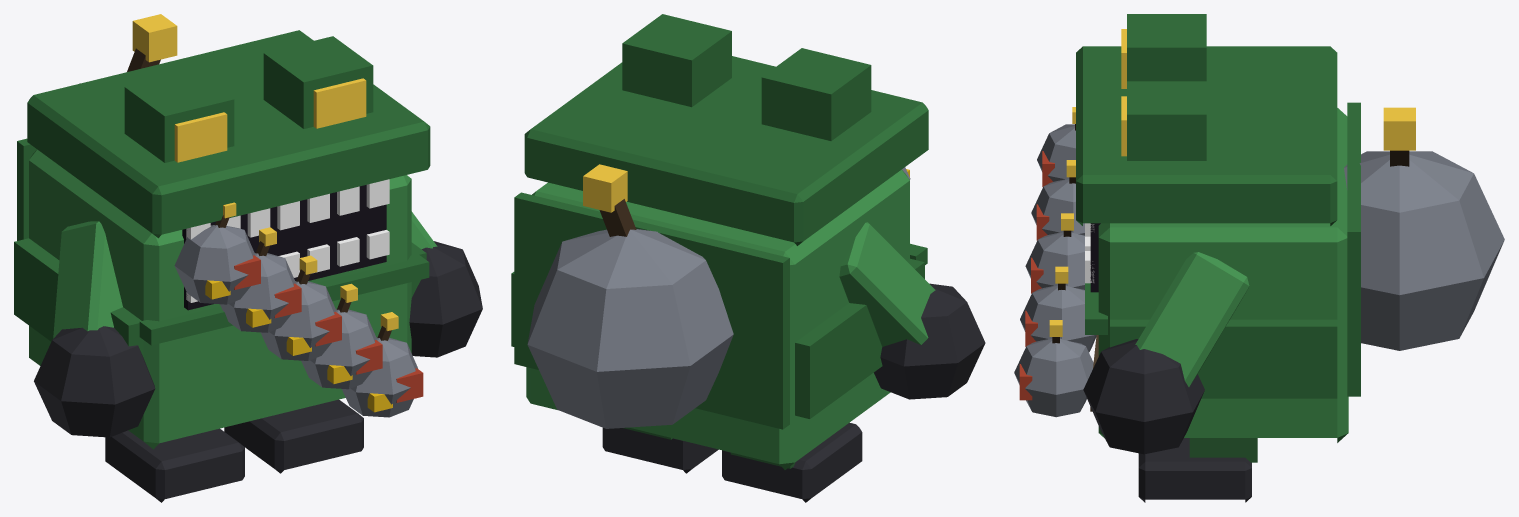
Rendered from r7_mini_dumpster_bomber.glb.
The picture shows the model from 3 angles, left to right: view 1: azimuth 30°, elevation 25°; view 2: azimuth 150°, elevation 25°; view 3: azimuth 270°, elevation 25°; orthographic projection.
Parts seen in each view (by area): view 1: r7_mini_dumpster_bomber_mesh; view 2: r7_mini_dumpster_bomber_mesh; view 3: r7_mini_dumpster_bomber_mesh.
Part boxes in pixels (<box>): r7_mini_dumpster_bomber_mesh: <box>14,14,482,502</box>; r7_mini_dumpster_bomber_mesh: <box>511,14,985,502</box>; r7_mini_dumpster_bomber_mesh: <box>1014,14,1504,502</box>.
Bounding box in the file's own units: 4.12 × 3.6 × 4.09.
Materials: 1 (1 with a texture image).
